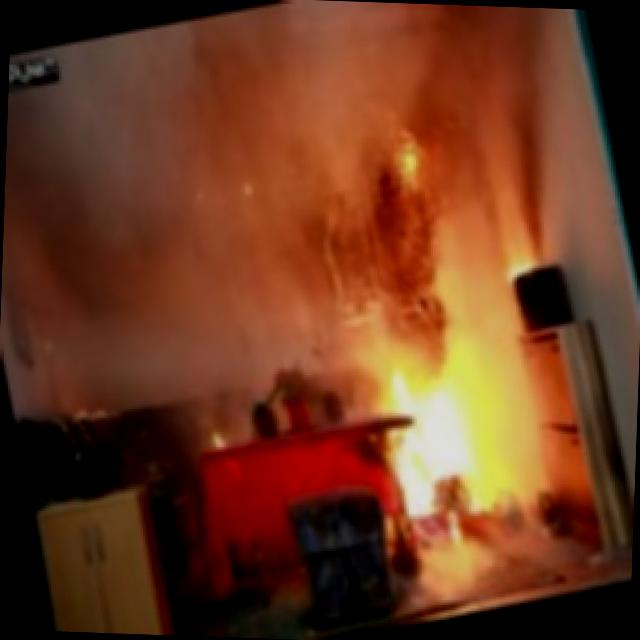fire: (338, 298, 556, 550)
